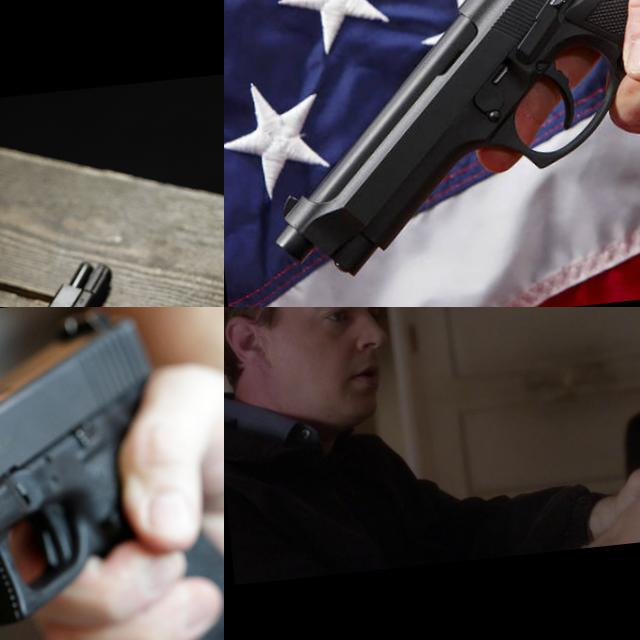handgun: (231, 0, 640, 290), (0, 307, 215, 640), (0, 253, 133, 307)
